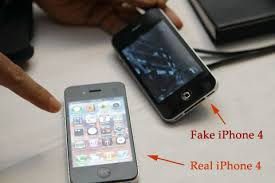iphone: (57, 78, 141, 183)
iphone4: (58, 78, 142, 183)
